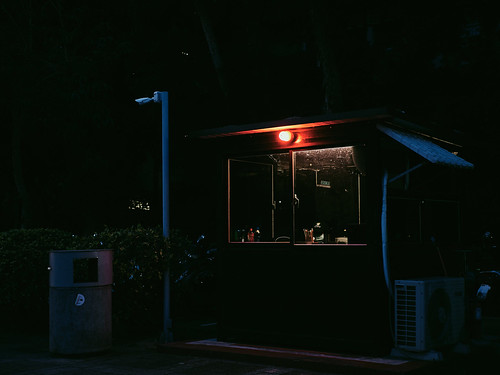building: (200, 117, 464, 354)
trash can: (46, 240, 119, 363)
vegetation: (1, 233, 171, 306)
